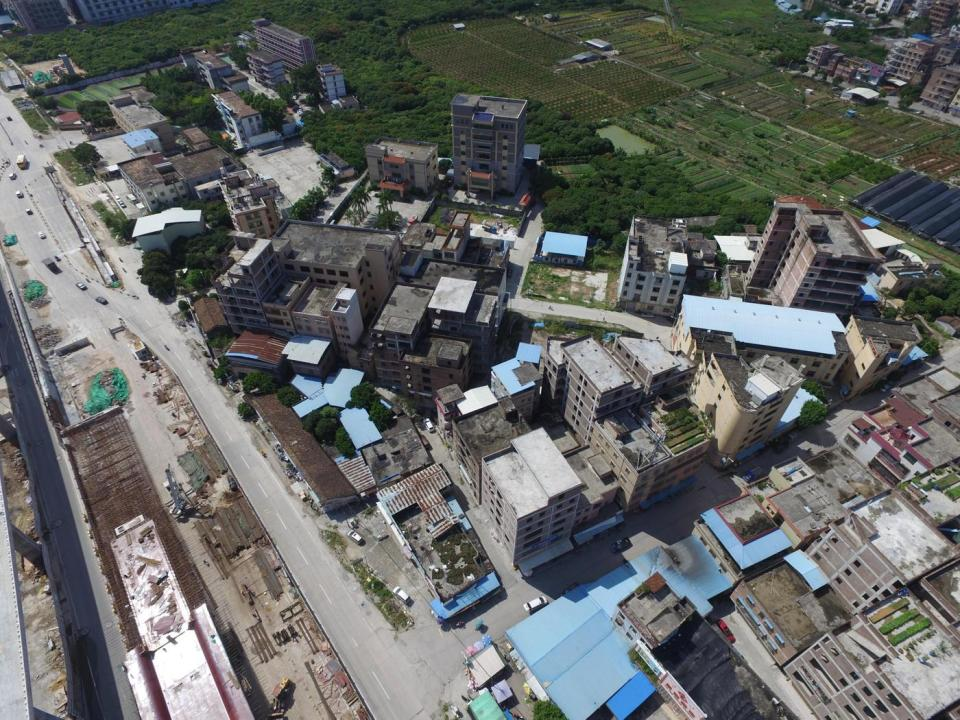bus: (17, 154, 27, 169)
car: (523, 594, 547, 612), (392, 586, 412, 604), (560, 582, 578, 602), (611, 538, 630, 554), (348, 529, 364, 543), (775, 442, 788, 454), (95, 296, 107, 305), (76, 282, 86, 290), (641, 313, 655, 318), (37, 231, 45, 239), (469, 188, 479, 194), (118, 201, 124, 208), (16, 192, 23, 197)
truck: (742, 467, 761, 482), (41, 258, 56, 272), (880, 380, 893, 392), (407, 215, 418, 228), (482, 225, 497, 234), (126, 194, 137, 204)
van: (787, 430, 802, 444), (424, 419, 434, 434), (26, 208, 32, 215), (9, 173, 16, 179), (114, 196, 120, 202), (6, 116, 11, 121)
